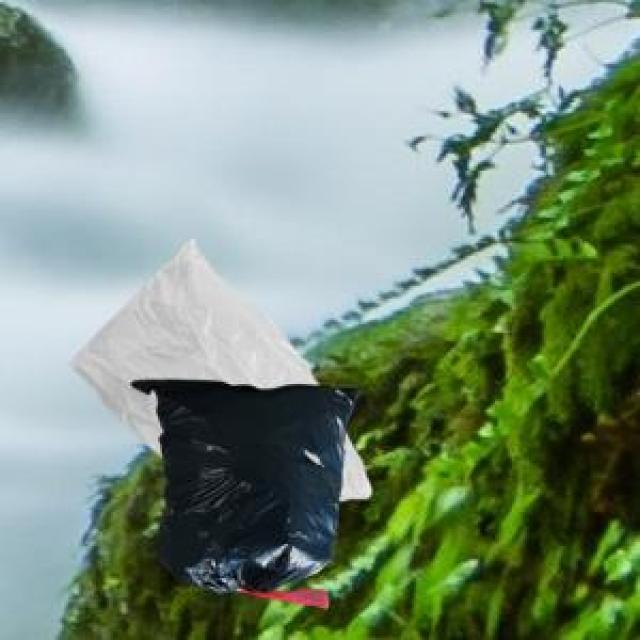miscellaneous trash: (129, 376, 361, 604)
